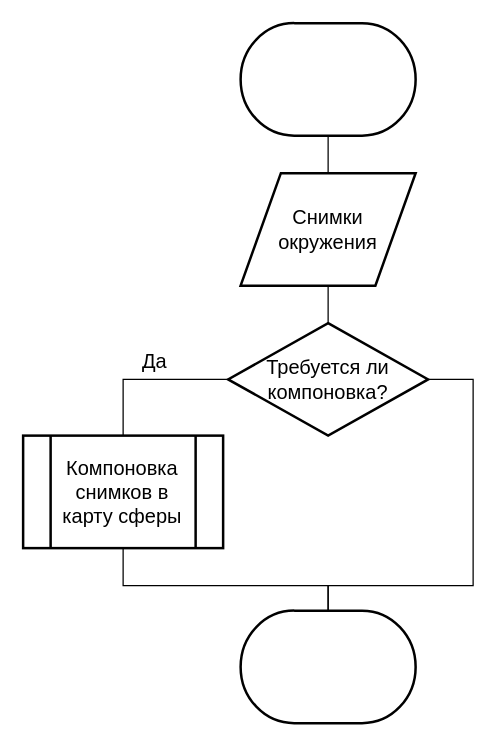
The diagram is 496 pixels wide and 745 high, and some of its shapes have lost their labels. The centre of each missing label's shape, as x and y in pixels:
"Конец" belongs at point 327,666.
"Начало" belongs at point 327,78.
